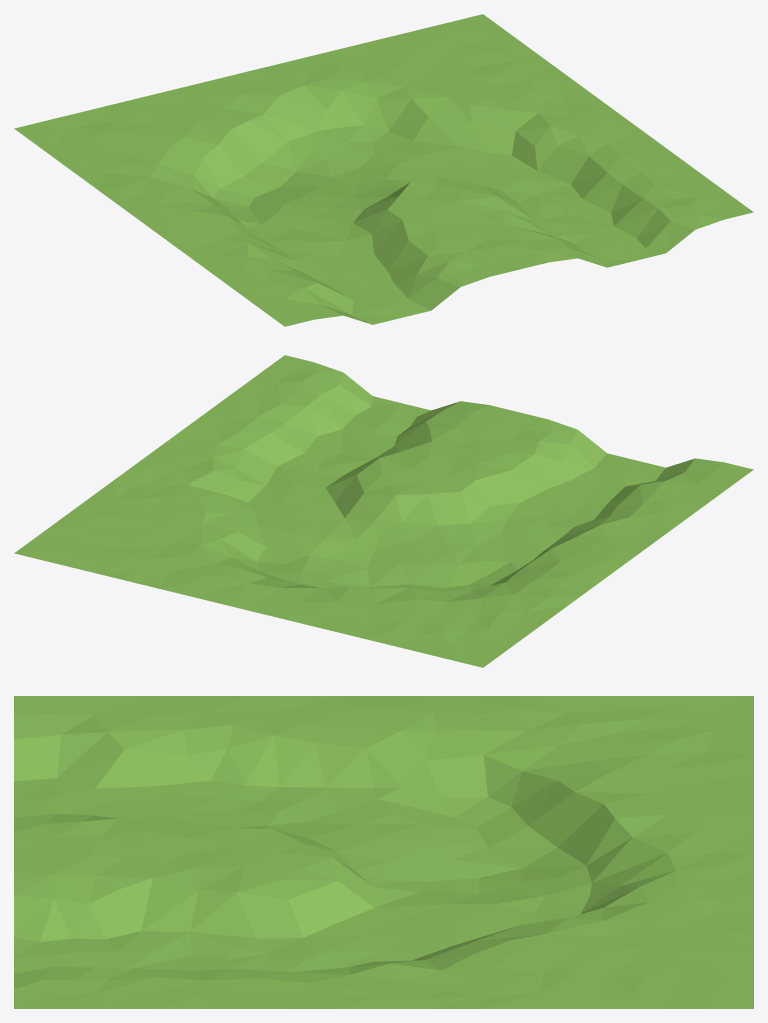
Rendered from MT_River_M_d_02_LOD.fbx.
3 renders of one model, top to bottom at view 1: azimuth 30°, elevation 25°; view 2: azimuth 150°, elevation 25°; view 3: azimuth 270°, elevation 25°, orthographic. The views are drawn at different scales.
Visible parts, largest first — view 1: MT_River_M_d_02_LOD0; view 2: MT_River_M_d_02_LOD0; view 3: MT_River_M_d_02_LOD0.
Boxes of the visible parts, x1,y1,x2,y2 form: MT_River_M_d_02_LOD0: (14, 14, 753, 326); MT_River_M_d_02_LOD0: (14, 355, 753, 667); MT_River_M_d_02_LOD0: (14, 696, 753, 1008).
Size of what is drawn, in the model's own units: 5000 by 311 by 5000.
